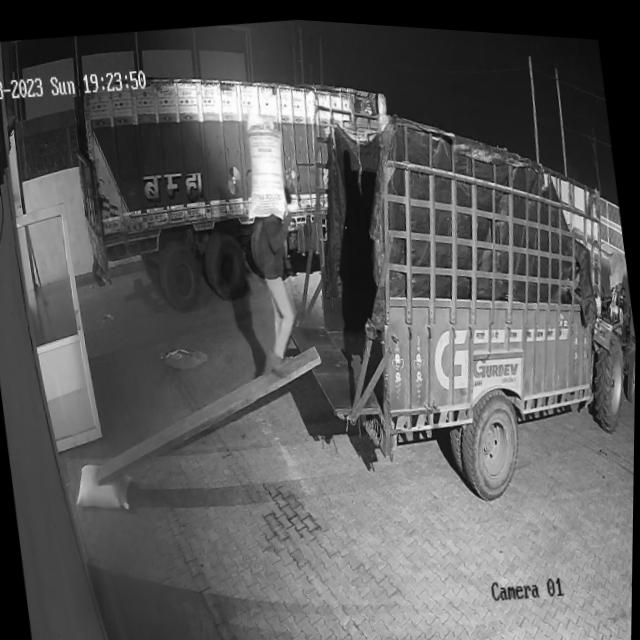sack: (238, 107, 293, 219), (74, 456, 136, 514)
